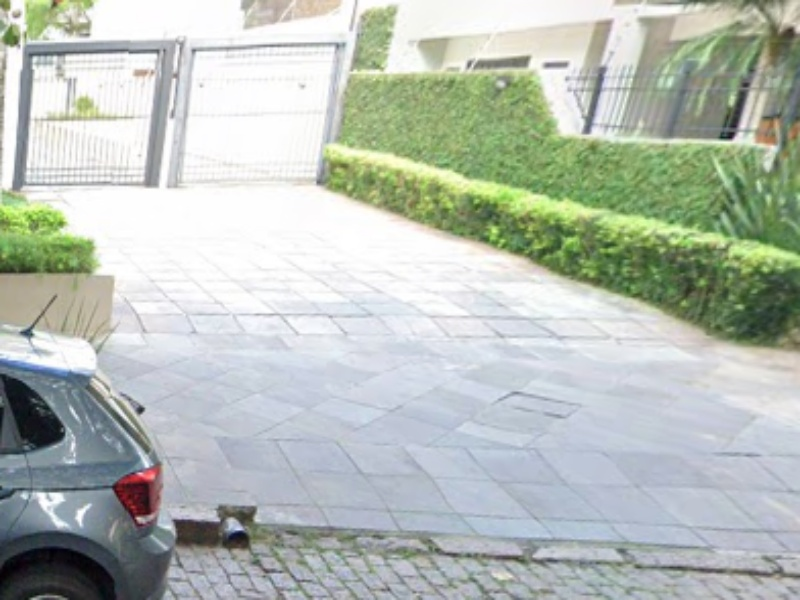v27: (260, 441, 800, 600)
